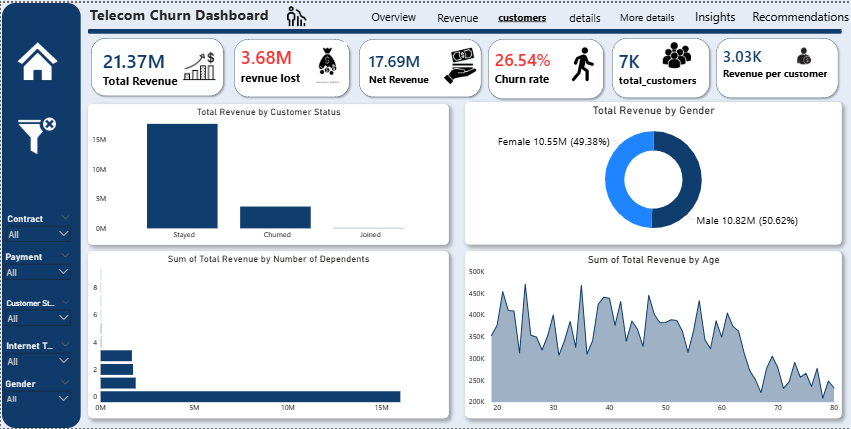

What the dashboard file says about the page in this screenshot:
{"tool":"powerbi","page":{"name":"customers","canvas":[2500,1250],"ordinal":3},"visuals":[{"type":"shape","box":[1044.4,97.2,377.8,188.9],"z":0},{"type":"shape","box":[255.6,94.4,408.3,188.9],"z":1000},{"type":"shape","box":[1788.9,94.4,305.6,194.4],"z":2000},{"type":"shape","box":[1422.2,97.2,358.3,194.4],"z":3000},{"type":"shape","box":[2094.4,94.4,377.8,194.4],"z":4000},{"type":"shape","box":[2.6,0,231.6,1250],"z":5000},{"type":"shape","box":[675,97.2,358.3,188.9],"z":6000},{"type":"clusteredBarChart","fields":{"Y":["Sum(fact_telecom_customer_churn.Total Revenue)"],"Category":["dim_customer.Number of Dependents"]},"box":[255.6,730.6,1061.1,491.7],"z":7000},{"type":"areaChart","fields":{"Category":["dim_customer.Age"],"Y":["Sum(fact_telecom_customer_churn.Total Revenue)"]},"box":[1363.9,730.6,1108.3,491.7],"z":8000},{"type":"donutChart","fields":{"Category":["dim_customer.Gender"],"Y":["_measures.Total Revenue"]},"box":[1363.9,291.7,1108.3,419.4],"z":9000},{"type":"cardVisual","fields":{"Data":["_measures.total_customers"]},"box":[1788.2,114.7,305.9,150],"z":10000},{"type":"cardVisual","fields":{"Data":["_measures.Revenue per customer"]},"box":[2094.4,105.6,377.8,138.9],"z":11000},{"type":"clusteredColumnChart","fields":{"Category":["dim_customer.Customer Status"],"Y":["_measures.Total Revenue"]},"box":[255.6,297.2,1061.1,413.9],"z":12000},{"type":"shape","box":[255.6,75,2216.7,13.9],"z":13000},{"type":"textbox","box":[255.6,0,616.7,75],"z":14000},{"type":"image","box":[819.4,0,100,77.8],"z":15000},{"type":"image","box":[1930.6,111.1,116.7,83.3],"z":16000},{"type":"image","box":[2282.4,114.7,158.8,88.2],"z":17000},{"type":"slicer","fields":{"Values":["dim_customer.Customer Status"]},"box":[2.7,864.9,210.8,86.5],"z":18000},{"type":"slicer","fields":{"Values":["dim_internet_service.Internet Type"]},"box":[2.7,986.5,210.8,83.8],"z":19000},{"type":"slicer","fields":{"Values":["dim_contract.Payment Method"]},"box":[0,724.3,213.5,97.3],"z":20000},{"type":"slicer","fields":{"Values":["dim_contract.Contract"]},"box":[5.4,610.8,208.1,97.3],"z":21000},{"type":"slicer","fields":{"Values":["dim_customer.Gender"]},"box":[0,1097.3,213.5,75.7],"z":22000},{"type":"cardVisual","fields":{"Data":["_measures.churn_rate"]},"box":[1422.2,100,288.9,175],"z":23000},{"type":"image","box":[1655.6,116.7,111.1,125],"z":24000},{"type":"cardVisual","fields":{"Data":["_measures.Total Revenue"]},"box":[269.4,105.6,294.4,166.7],"z":25000},{"type":"image","box":[519.4,133.3,125,108.3],"z":26000},{"type":"cardVisual","fields":{"Data":["_measures.revnue lost"]},"box":[675,105.6,288.9,150],"z":27000},{"type":"cardVisual","fields":{"Data":["_measures.Net Revenue"]},"box":[1052.8,116.7,263.9,147.2],"z":28000},{"type":"image","box":[1275,130.6,147.2,111.1],"z":29000},{"type":"image","box":[886.1,113.9,150,122.2],"z":30000},{"type":"actionButton","title":"Churn Overview","box":[1063.2,0,186.8,78.9],"z":31000},{"type":"actionButton","title":"Churn Overview","box":[1250,0,186.8,84.2],"z":32000},{"type":"actionButton","title":"Churn Overview","box":[1439.5,0,189.5,78.9],"z":33000},{"type":"actionButton","title":"Churn Overview","box":[1642.1,0,152.6,84.2],"z":34000},{"type":"actionButton","title":"Churn Overview","box":[1794.7,0,213.2,78.9],"z":35000},{"type":"actionButton","title":"Churn Overview","box":[2018.4,0,165.8,78.9],"z":36000},{"type":"actionButton","title":"Churn Overview","box":[2202.6,0,297.4,78.9],"z":37000},{"type":"image","box":[40.5,110.8,132.4,118.9],"z":38000},{"type":"image","box":[21.6,335.1,170.3,110.8],"z":39000}]}

Visuals, with their boxes on the page's 2500x1250 design canvas (x1, y1, x2, y2). These are canvas units, not pixel positions in the 851x429 screenshot, which may show the page scaled, cropped or inside an application window:
shape: left=1044, top=97, right=1422, bottom=286
shape: left=256, top=94, right=664, bottom=283
shape: left=1789, top=94, right=2094, bottom=289
shape: left=1422, top=97, right=1780, bottom=292
shape: left=2094, top=94, right=2472, bottom=289
shape: left=3, top=0, right=234, bottom=1250
shape: left=675, top=97, right=1033, bottom=286
clusteredBarChart - Sum(fact_telecom_customer_churn.Total Revenue) x dim_customer.Number of Dependents: left=256, top=731, right=1317, bottom=1222
areaChart - dim_customer.Age x Sum(fact_telecom_customer_churn.Total Revenue): left=1364, top=731, right=2472, bottom=1222
donutChart - dim_customer.Gender x _measures.Total Revenue: left=1364, top=292, right=2472, bottom=711
cardVisual - _measures.total_customers: left=1788, top=115, right=2094, bottom=265
cardVisual - _measures.Revenue per customer: left=2094, top=106, right=2472, bottom=244
clusteredColumnChart - dim_customer.Customer Status x _measures.Total Revenue: left=256, top=297, right=1317, bottom=711
shape: left=256, top=75, right=2472, bottom=89
textbox: left=256, top=0, right=872, bottom=75
image: left=819, top=0, right=919, bottom=78
image: left=1931, top=111, right=2047, bottom=194
image: left=2282, top=115, right=2441, bottom=203
slicer - dim_customer.Customer Status: left=3, top=865, right=214, bottom=951
slicer - dim_internet_service.Internet Type: left=3, top=986, right=214, bottom=1070
slicer - dim_contract.Payment Method: left=0, top=724, right=214, bottom=822
slicer - dim_contract.Contract: left=5, top=611, right=214, bottom=708
slicer - dim_customer.Gender: left=0, top=1097, right=214, bottom=1173
cardVisual - _measures.churn_rate: left=1422, top=100, right=1711, bottom=275
image: left=1656, top=117, right=1767, bottom=242
cardVisual - _measures.Total Revenue: left=269, top=106, right=564, bottom=272
image: left=519, top=133, right=644, bottom=242
cardVisual - _measures.revnue lost: left=675, top=106, right=964, bottom=256
cardVisual - _measures.Net Revenue: left=1053, top=117, right=1317, bottom=264
image: left=1275, top=131, right=1422, bottom=242
image: left=886, top=114, right=1036, bottom=236
"Churn Overview" actionButton: left=1063, top=0, right=1250, bottom=79
"Churn Overview" actionButton: left=1250, top=0, right=1437, bottom=84
"Churn Overview" actionButton: left=1440, top=0, right=1629, bottom=79
"Churn Overview" actionButton: left=1642, top=0, right=1795, bottom=84
"Churn Overview" actionButton: left=1795, top=0, right=2008, bottom=79
"Churn Overview" actionButton: left=2018, top=0, right=2184, bottom=79
"Churn Overview" actionButton: left=2203, top=0, right=2500, bottom=79
image: left=40, top=111, right=173, bottom=230
image: left=22, top=335, right=192, bottom=446
